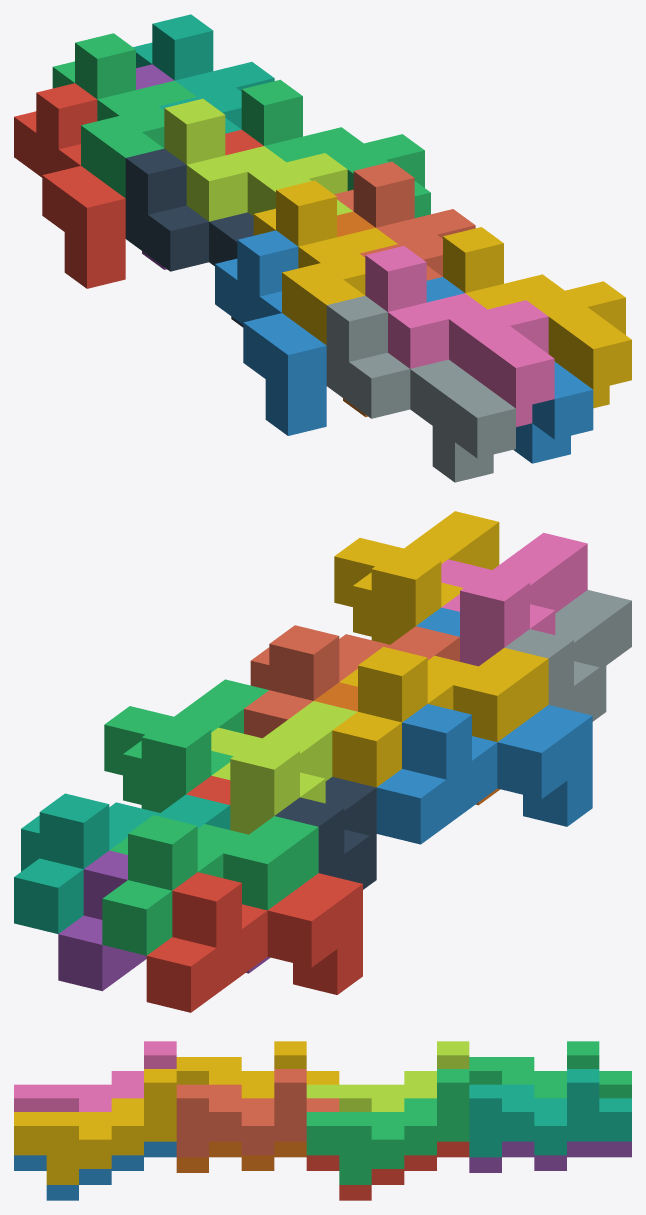
Rendered from tiling.obj.
3 views of the same model, one above another, from view 1: azimuth 30°, elevation 25°; view 2: azimuth 150°, elevation 25°; view 3: azimuth 270°, elevation 25° (orthographic). The views are drawn at different scales.
Parts seen in each view (by area): view 1: copy_2_domain_2, copy_2_domain_4, copy_1_domain_1, copy_1_domain_2, copy_2_domain_8, copy_2_domain_3, copy_1_domain_3, copy_1_domain_4, copy_2_domain_1, copy_2_domain_7, copy_1_domain_7, copy_1_domain_8 (+3 smaller); view 2: copy_1_domain_1, copy_1_domain_2, copy_1_domain_3, copy_1_domain_4, copy_2_domain_8, copy_1_domain_7, copy_2_domain_4, copy_2_domain_7, copy_2_domain_3, copy_1_domain_8, copy_2_domain_2, copy_2_domain_1 (+4 smaller); view 3: copy_1_domain_7, copy_2_domain_7, copy_2_domain_8, copy_1_domain_8, copy_1_domain_3, copy_2_domain_4, copy_1_domain_4, copy_2_domain_3, copy_1_domain_5, copy_2_domain_5, copy_2_domain_6, copy_1_domain_6.
Boxes of the visible parts, x1=… form: copy_2_domain_2: x1=326, y1=296, x2=515, y2=482; copy_2_domain_4: x1=365, y1=246, x2=554, y2=426; copy_1_domain_1: x1=14, y1=83, x2=125, y2=288; copy_1_domain_2: x1=215, y1=230, x2=326, y2=435; copy_2_domain_8: x1=443, y1=227, x2=631, y2=408; copy_2_domain_3: x1=164, y1=98, x2=352, y2=221; copy_1_domain_3: x1=52, y1=33, x2=196, y2=197; copy_1_domain_4: x1=253, y1=180, x2=397, y2=345; copy_2_domain_1: x1=125, y1=148, x2=253, y2=327; copy_2_domain_7: x1=241, y1=79, x2=430, y2=217; copy_1_domain_7: x1=133, y1=14, x2=274, y2=133; copy_1_domain_8: x1=334, y1=161, x2=475, y2=280; copy_1_domain_1: x1=146, y1=872, x2=362, y2=1012; copy_1_domain_2: x1=376, y1=704, x2=592, y2=844; copy_1_domain_3: x1=102, y1=815, x2=318, y2=955; copy_1_domain_4: x1=332, y1=647, x2=548, y2=787; copy_2_domain_8: x1=334, y1=511, x2=499, y2=644; copy_1_domain_7: x1=14, y1=793, x2=230, y2=933; copy_2_domain_4: x1=441, y1=532, x2=587, y2=666; copy_2_domain_7: x1=104, y1=679, x2=268, y2=812; copy_2_domain_3: x1=211, y1=701, x2=357, y2=834; copy_1_domain_8: x1=244, y1=625, x2=459, y2=738; copy_2_domain_2: x1=504, y1=590, x2=631, y2=721; copy_2_domain_1: x1=275, y1=777, x2=376, y2=889; copy_1_domain_7: x1=469, y1=1069, x2=631, y2=1157; copy_2_domain_7: x1=306, y1=1069, x2=469, y2=1184; copy_2_domain_8: x1=14, y1=1069, x2=176, y2=1184; copy_1_domain_8: x1=176, y1=1069, x2=339, y2=1157; copy_1_domain_3: x1=469, y1=1041, x2=631, y2=1098; copy_2_domain_4: x1=14, y1=1041, x2=176, y2=1111; copy_1_domain_4: x1=176, y1=1041, x2=339, y2=1098; copy_2_domain_3: x1=306, y1=1041, x2=469, y2=1111; copy_1_domain_5: x1=469, y1=1141, x2=631, y2=1172; copy_2_domain_5: x1=306, y1=1141, x2=469, y2=1200; copy_2_domain_6: x1=14, y1=1141, x2=176, y2=1200; copy_1_domain_6: x1=176, y1=1141, x2=306, y2=1172.
Size of the model in its own units: 7 by 4 by 19.
